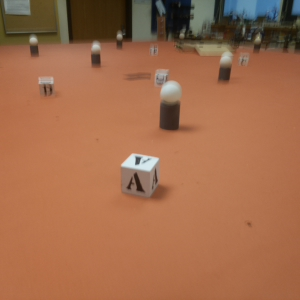blockA: (119, 151, 159, 201)
blockC: (155, 71, 170, 84)
blockD: (37, 76, 57, 97)
blockF: (150, 46, 157, 54)
corner: (156, 15, 167, 41)
obstacle: (155, 82, 183, 131), (219, 54, 232, 85), (92, 42, 102, 68), (28, 35, 39, 57), (252, 35, 262, 51), (116, 32, 125, 48)
slope: (196, 44, 229, 57)
